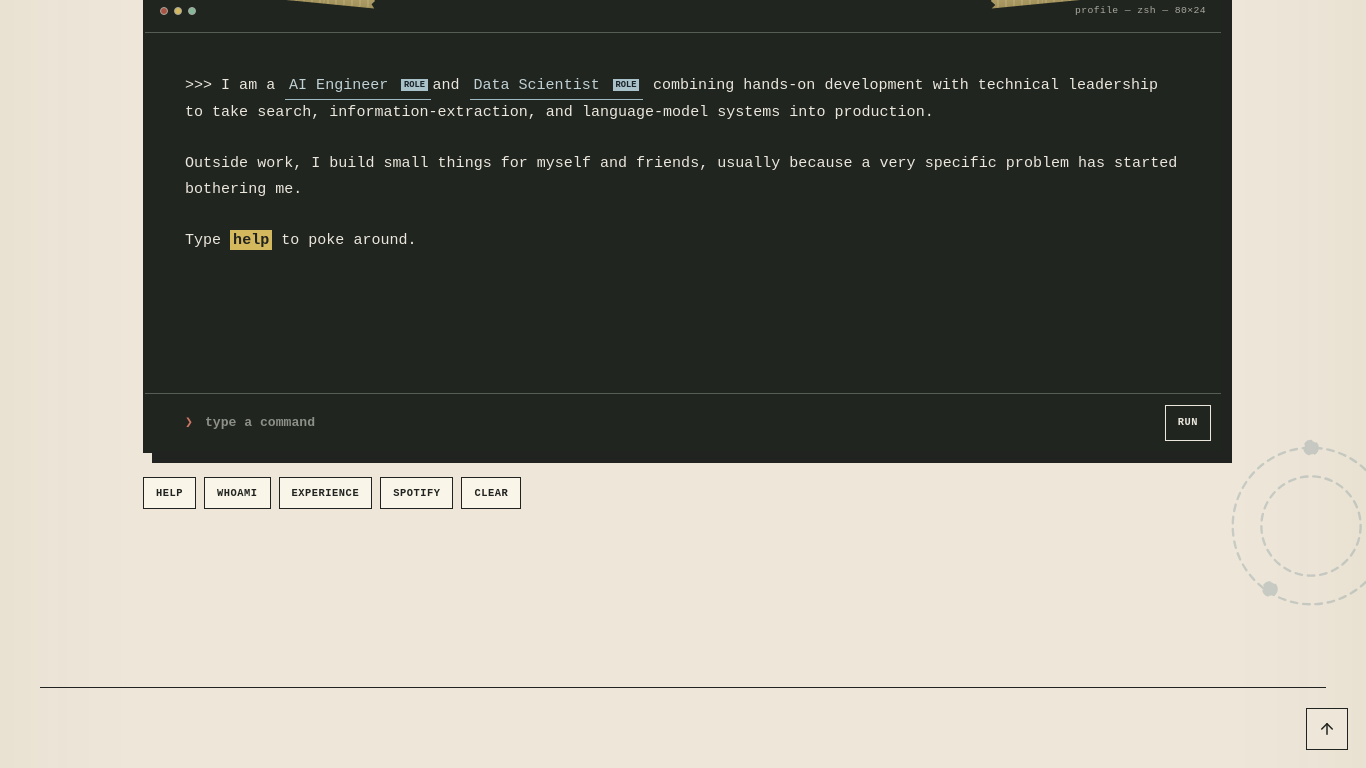
terminal commands › runs whoami
(page scrolled)
Type "whoami" into the field named "terminal command".
click(679, 423); type("whoami")  # box [205,406,1153,439]
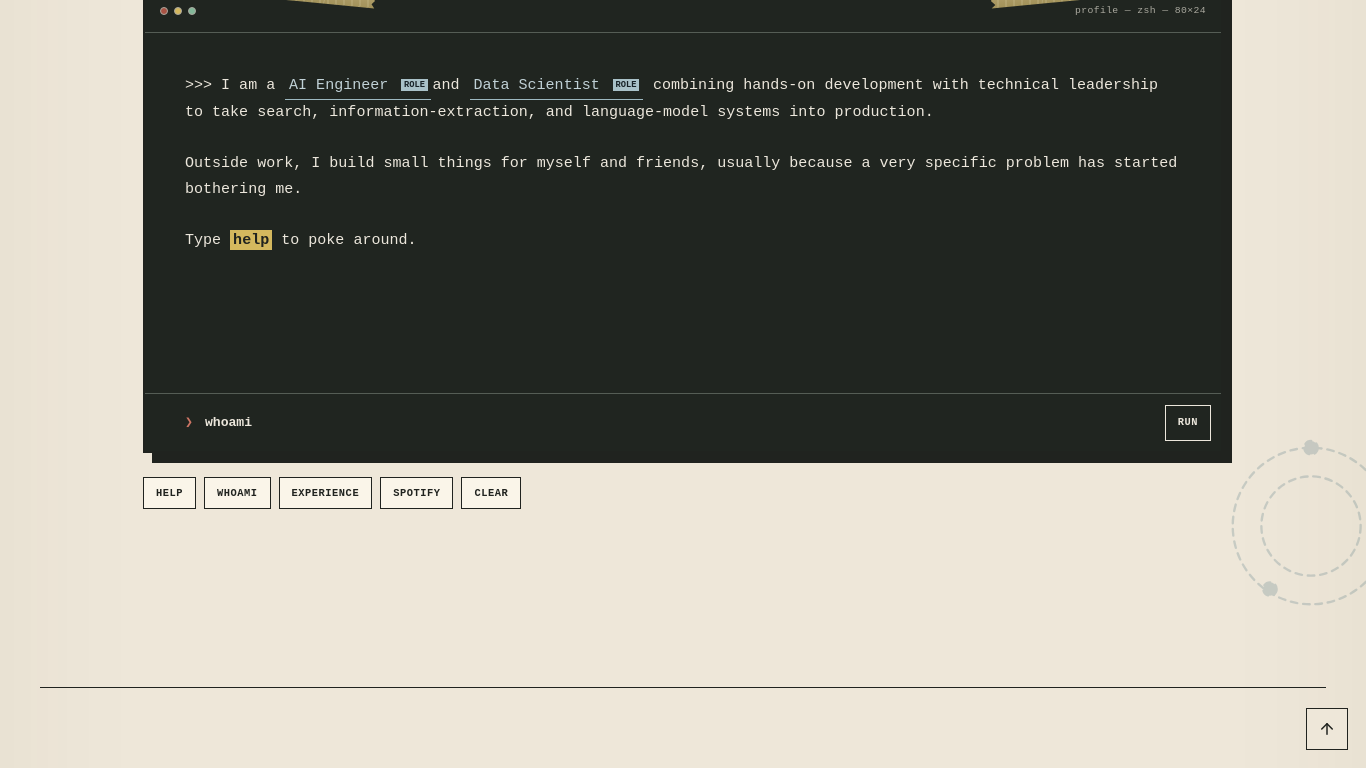
Press Enter in the field named "terminal command", box [205,406,1153,439]
(page scrolled)
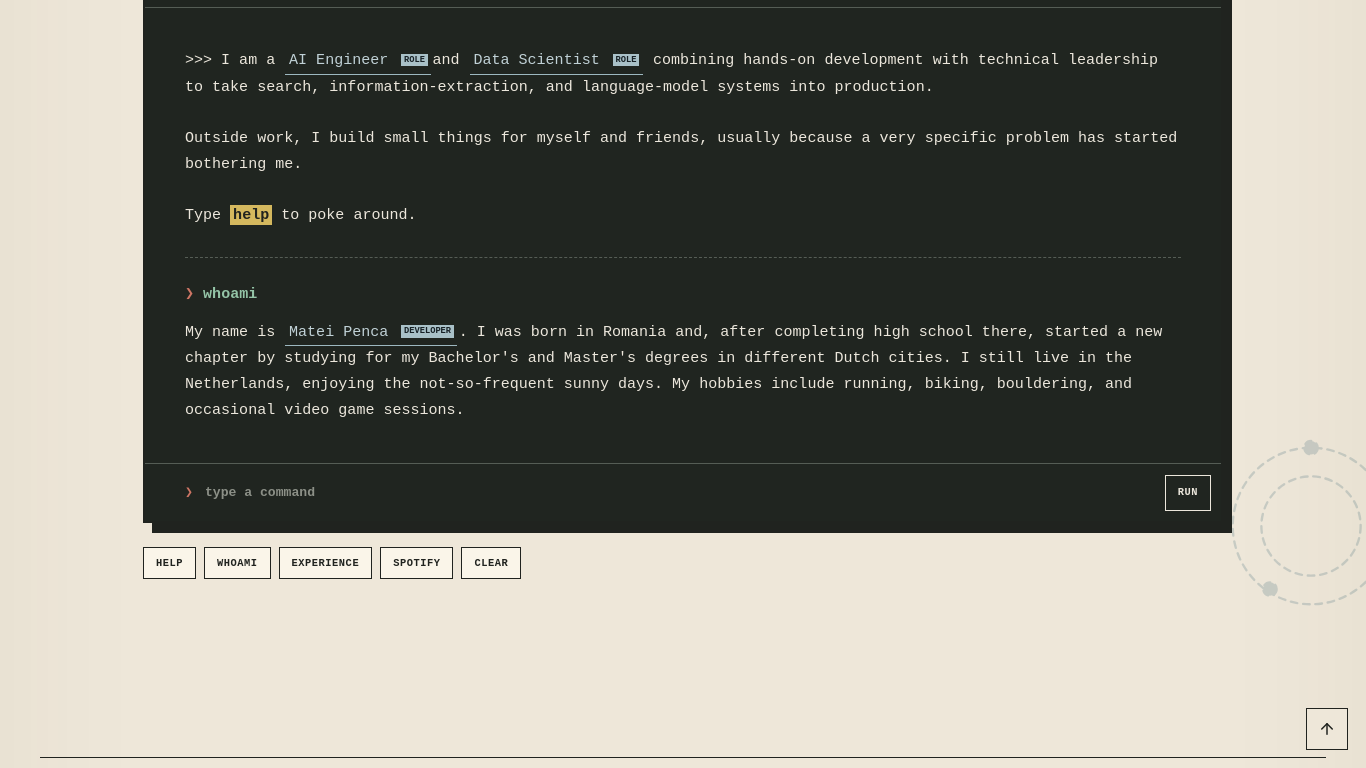
Expected: the text "I was born in Romania" is shown, [185,322,1162,418]
